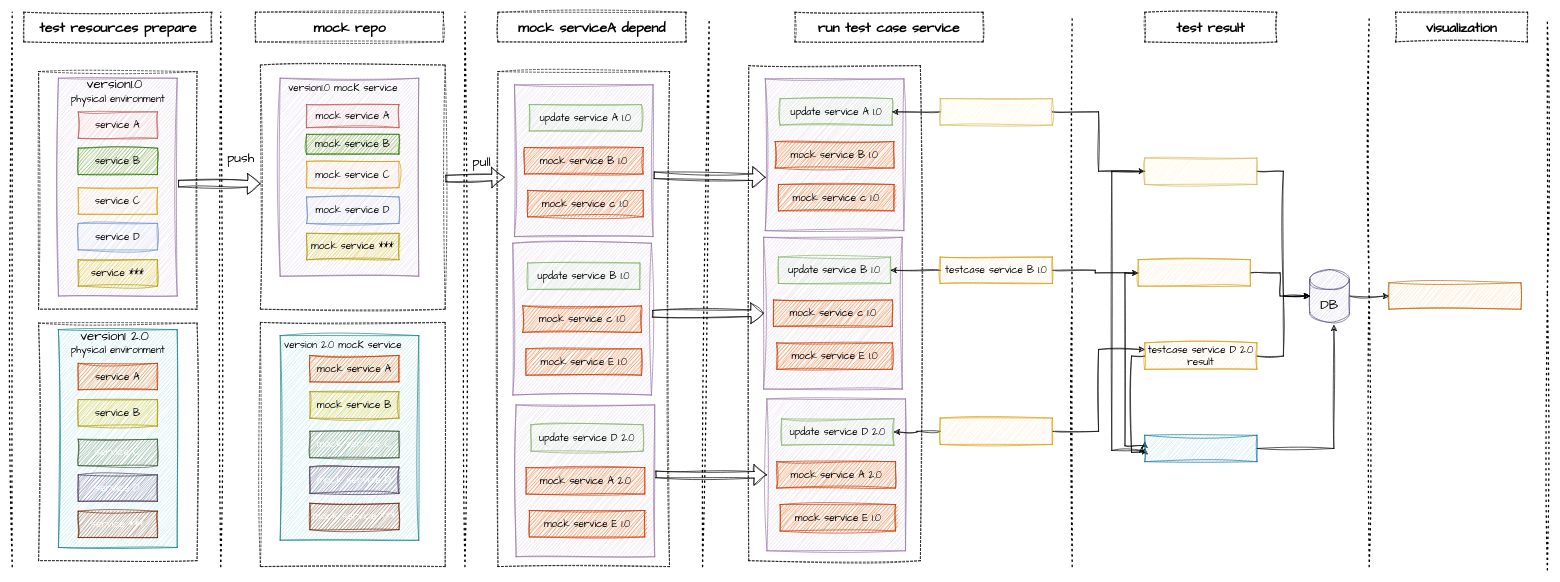
This 1560x582 diagram has some shape labels left out. Here are the shapes that lost their labels. From the top down, the centre of each, then its label:
point (996, 111): testcase service A 1.0
point (1200, 170): testcase service A 1.0 resilt
point (1194, 272): testcase service B 1.0 result
point (1454, 295): system visualization
point (996, 431): testcase service D 2.0
point (1200, 448): testcase result analysis
